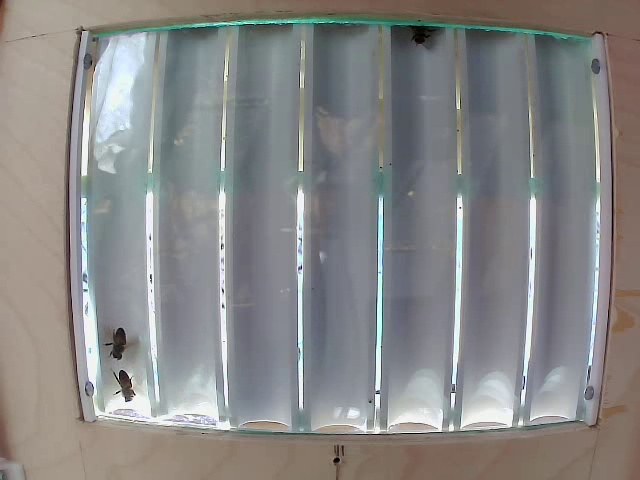bee: (94, 322, 141, 372), (101, 368, 145, 409), (406, 14, 433, 64)
